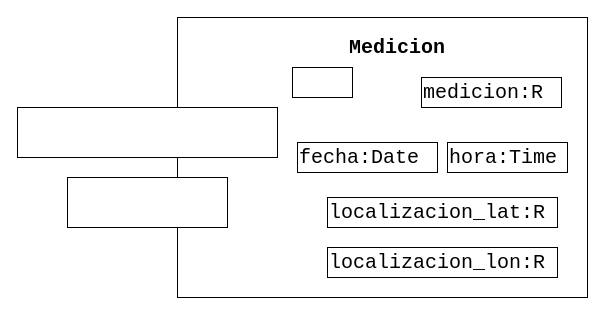
Image size: 605x315. Some labels were removed from this diagram. Here are the shapes that lost their labels. From the top down, the centre of each, then its label:
At pixel 322 82: "id:Z".
At pixel 147 132: "N,R,Date,Time,R,R-> Constructor()->".
At pixel 147 202: "toJson()<- ->JSONObject".
